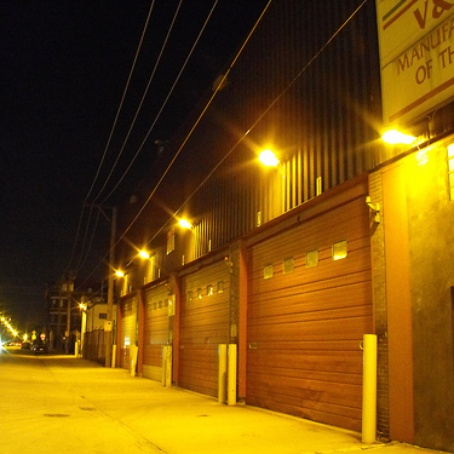building: (81, 1, 454, 454)
sky: (1, 1, 92, 320)
